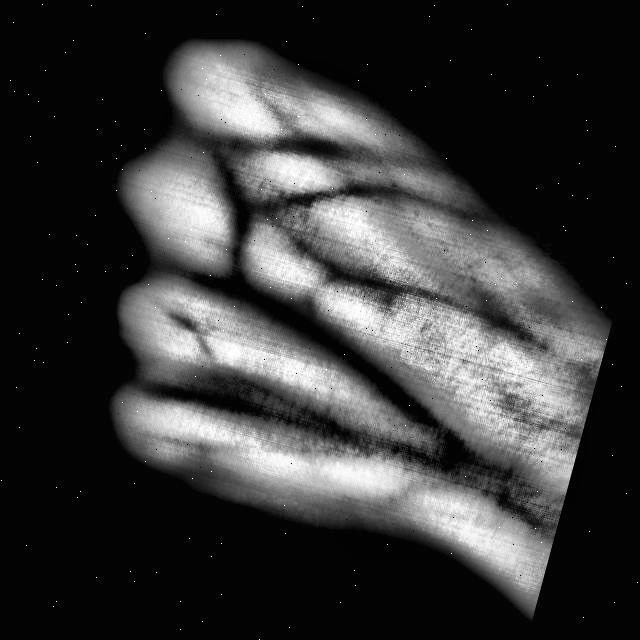Vein: (248, 285, 423, 417)
